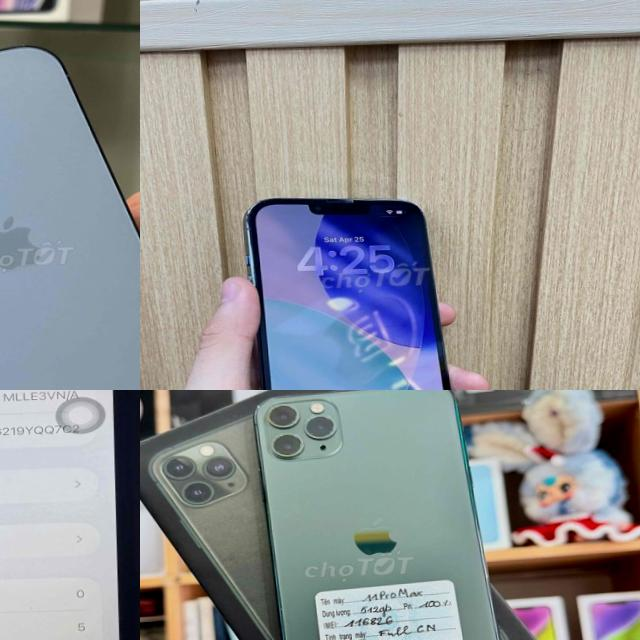gen_11: (245, 390, 513, 640)
gen_12_13: (0, 37, 140, 390), (240, 186, 471, 390), (0, 390, 140, 640)
